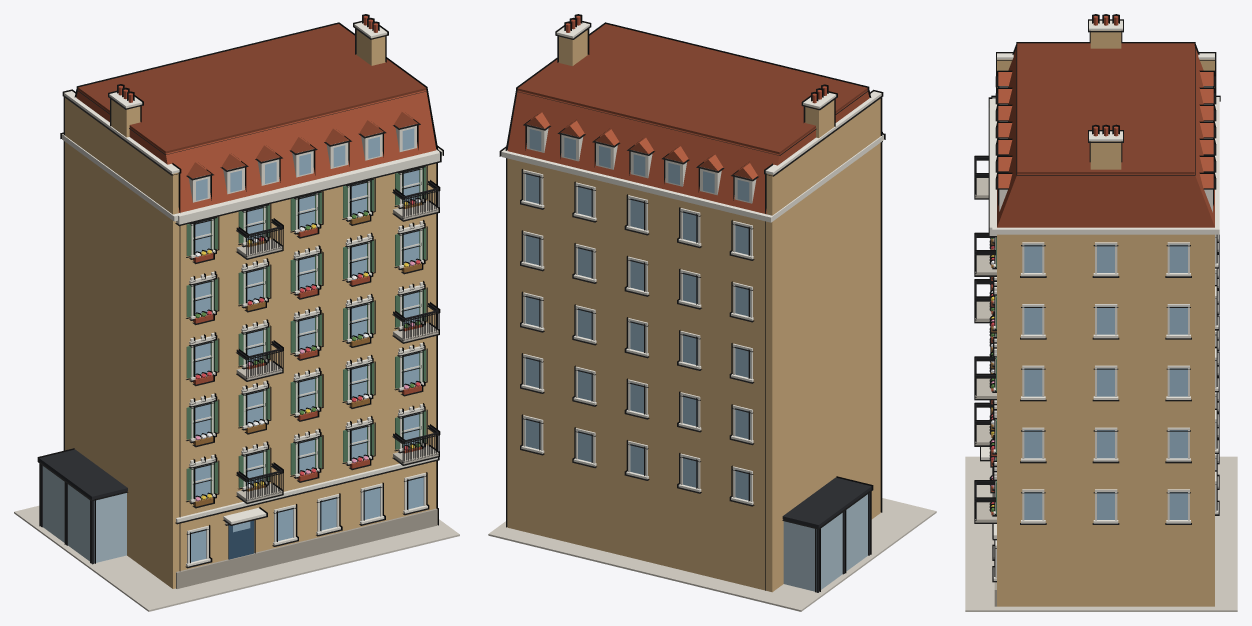
The model's file is Konut_ref_faubourg.fbx.
The picture shows the model from 3 angles, left to right: view 1: azimuth 30°, elevation 25°; view 2: azimuth 150°, elevation 25°; view 3: azimuth 270°, elevation 25°; orthographic projection.
Visible parts, largest first — view 1: Konut_ref_faubourg; view 2: Konut_ref_faubourg; view 3: Konut_ref_faubourg.
Boxes of the visible parts, x1=… form: Konut_ref_faubourg: x1=14, y1=14, x2=459, y2=611; Konut_ref_faubourg: x1=488, y1=14, x2=936, y2=611; Konut_ref_faubourg: x1=965, y1=14, x2=1237, y2=611.
Size of the model in its own units: 16 by 23.11 by 12.
